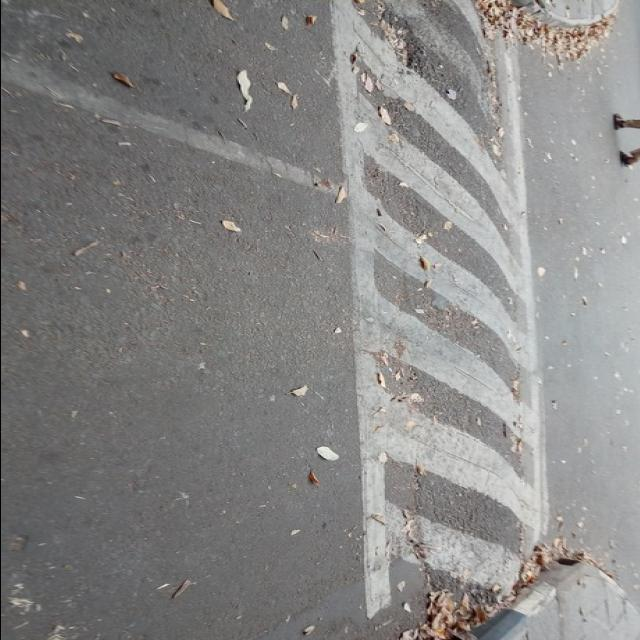speedbreaker: (320, 0, 548, 569)
